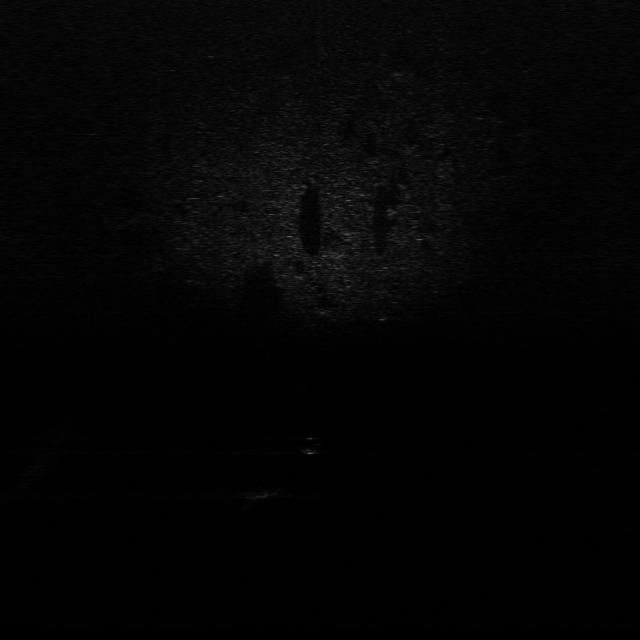ball: (296, 434, 324, 457)
square cage: (242, 484, 294, 504)
tyre: (366, 287, 393, 322)
